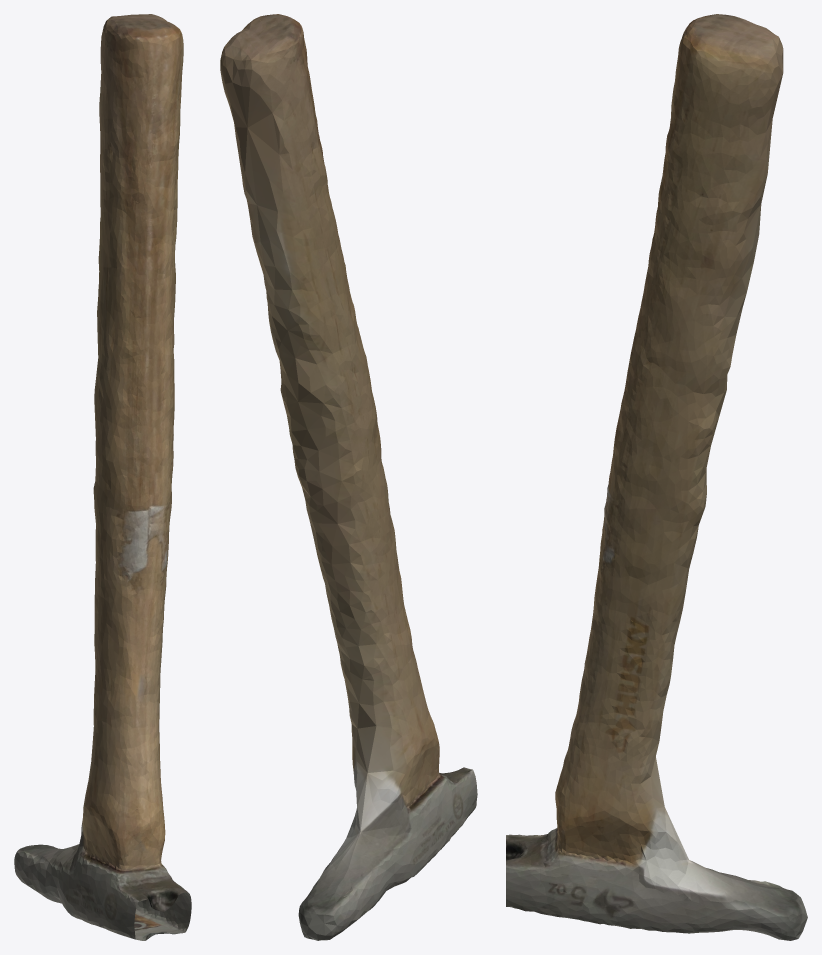
Rendered from hammer_2_orig.obj.
3 views of the same model, side by side, from view 1: azimuth 30°, elevation 25°; view 2: azimuth 150°, elevation 25°; view 3: azimuth 270°, elevation 25° (orthographic). The views are drawn at different scales.
Parts seen in each view (by area): view 1: 3DModel.obj; view 2: 3DModel.obj; view 3: 3DModel.obj.
Part boxes in pixels (x1,y1,x2,y2): 3DModel.obj: (14,14,191,940); 3DModel.obj: (220,14,477,940); 3DModel.obj: (506,14,807,940).
Size of the model in its own units: 0.0487 by 0.2742 by 0.0787.
1 material, 1 textured.
